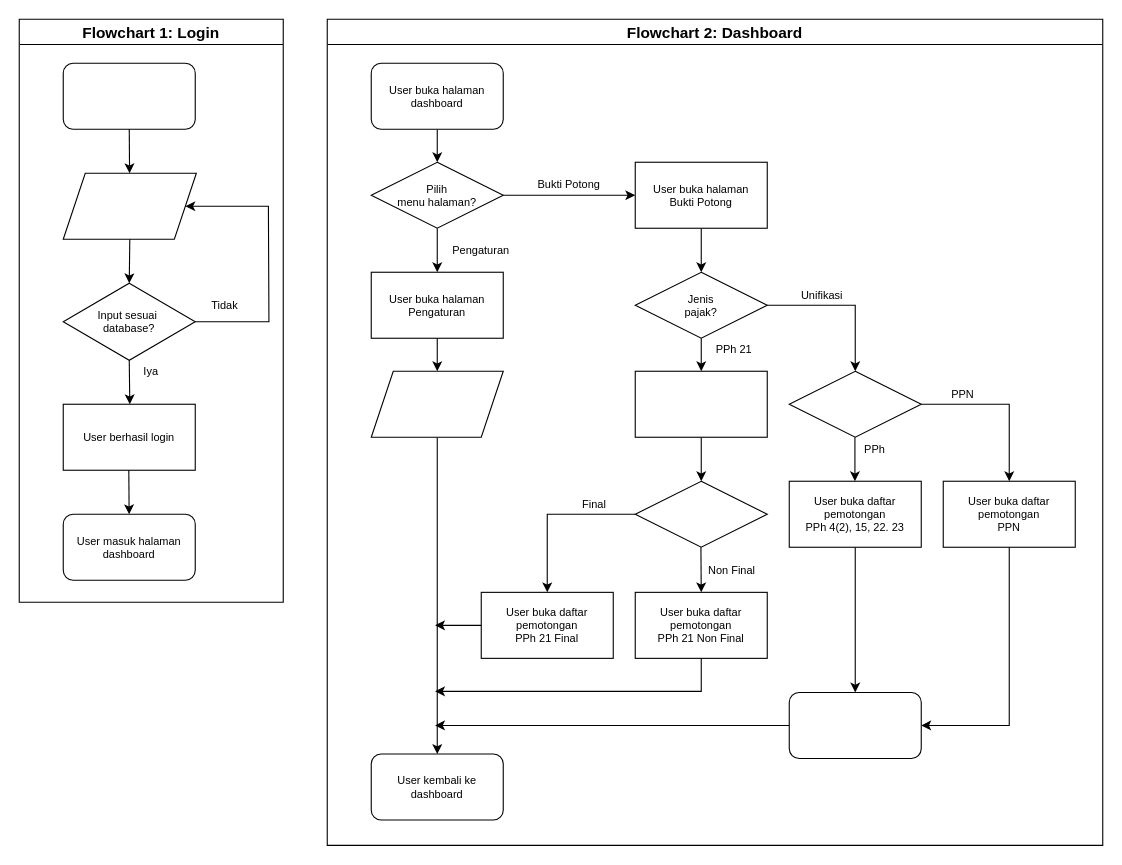
Image size: 1122x865. Some labels were removed from this diagram. The shapes that lost their labels are listed below. From the top down, each one's centre as x and y in pixels, then its label:
(x=128, y=95): User buka halaman login
(x=129, y=205): User input NPWP dan Password
(x=436, y=403): User input/update pengaturan
(x=700, y=403): User buka daftar pemotongan PPh 21
(x=854, y=403): Jenis Unifikasi?
(x=700, y=513): Jenis PPh 21?
(x=854, y=724): User download bukti potong
